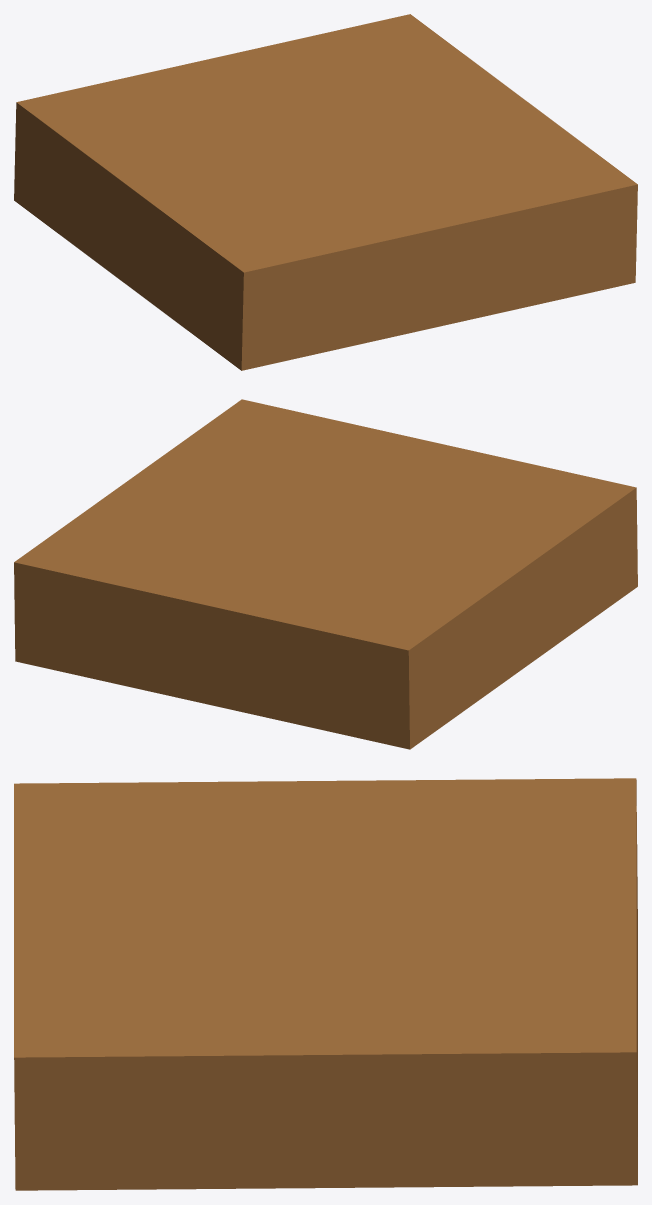
File: Pan_inferior.glb
The picture shows the model from 3 angles, top to bottom: view 1: azimuth 30°, elevation 25°; view 2: azimuth 150°, elevation 25°; view 3: azimuth 270°, elevation 25°; orthographic projection. The views are drawn at different scales.
Visible parts, largest first — view 1: Pan_inferior; view 2: Pan_inferior; view 3: Pan_inferior.
Boxes of the visible parts, box(x1,y1,x2,y2) form: Pan_inferior: box(14, 14, 637, 370); Pan_inferior: box(14, 399, 637, 749); Pan_inferior: box(14, 778, 637, 1190).
Bounding box in the file's own units: 2.01 × 0.5337 × 2.
